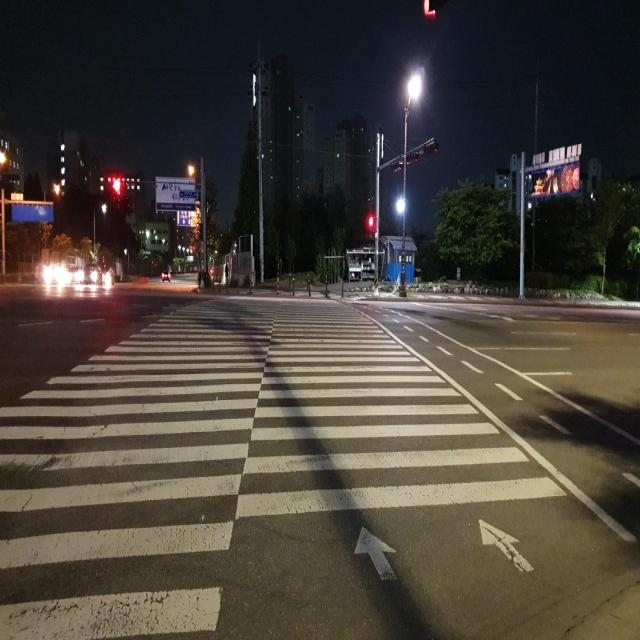빨간불: (367, 213, 374, 242)
횡단보도: (0, 299, 567, 639)
